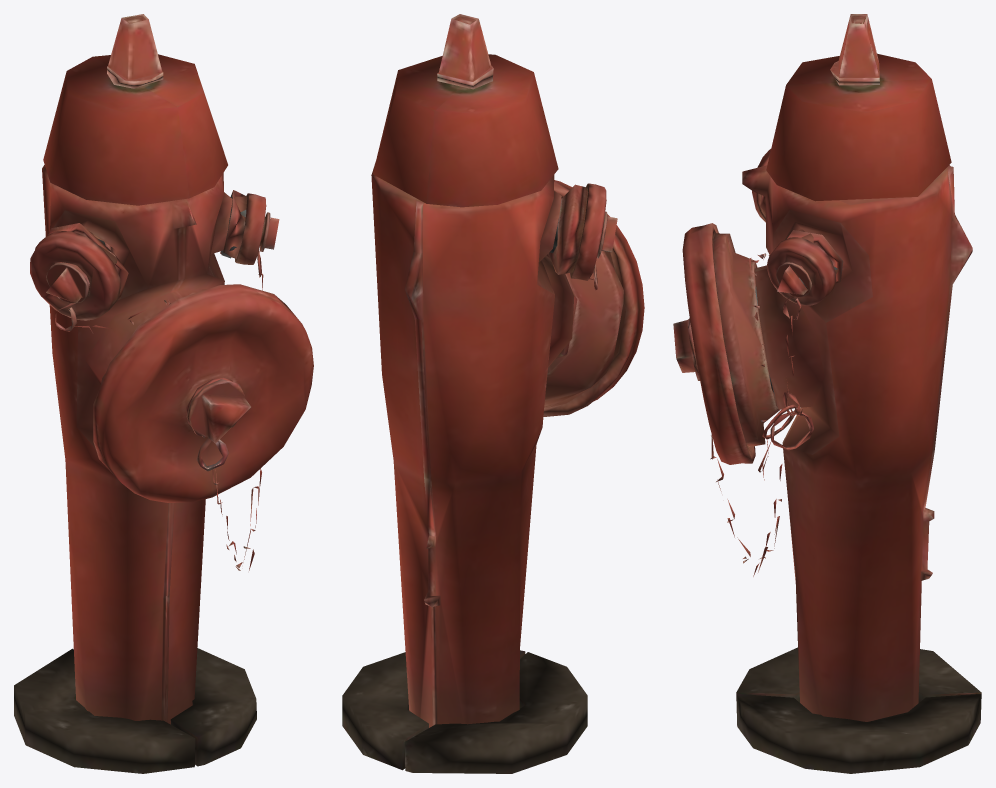
Rendered from fire_hydrant.glb.
3 views of the same model, side by side, from view 1: azimuth 30°, elevation 25°; view 2: azimuth 150°, elevation 25°; view 3: azimuth 270°, elevation 25° (orthographic).
Parts seen in each view (by area): view 1: fire_hydrant, fire_hydrant_cap_01, fire_hydrant_cap_03, fire_hydrant_cap_02, fire_hydrant_chain; view 2: fire_hydrant, fire_hydrant_cap_01, fire_hydrant_cap_03; view 3: fire_hydrant, fire_hydrant_cap_01, fire_hydrant_cap_02, fire_hydrant_chain.
Boxes of the visible parts, x1,y1,x2,y2 form: fire_hydrant: (14,14,256,773); fire_hydrant_cap_01: (93,284,313,502); fire_hydrant_cap_03: (30,231,120,320); fire_hydrant_cap_02: (235,193,279,264); fire_hydrant_chain: (54,247,263,570); fire_hydrant: (342,14,623,773); fire_hydrant_cap_01: (543,180,644,416); fire_hydrant_cap_03: (570,183,617,280); fire_hydrant: (713,14,981,773); fire_hydrant_cap_01: (673,223,755,464); fire_hydrant_cap_02: (767,237,836,305); fire_hydrant_chain: (710,253,813,576).
Size of the model in its own units: 0.2745 by 0.7992 by 0.3173.
1 material, 1 textured.
